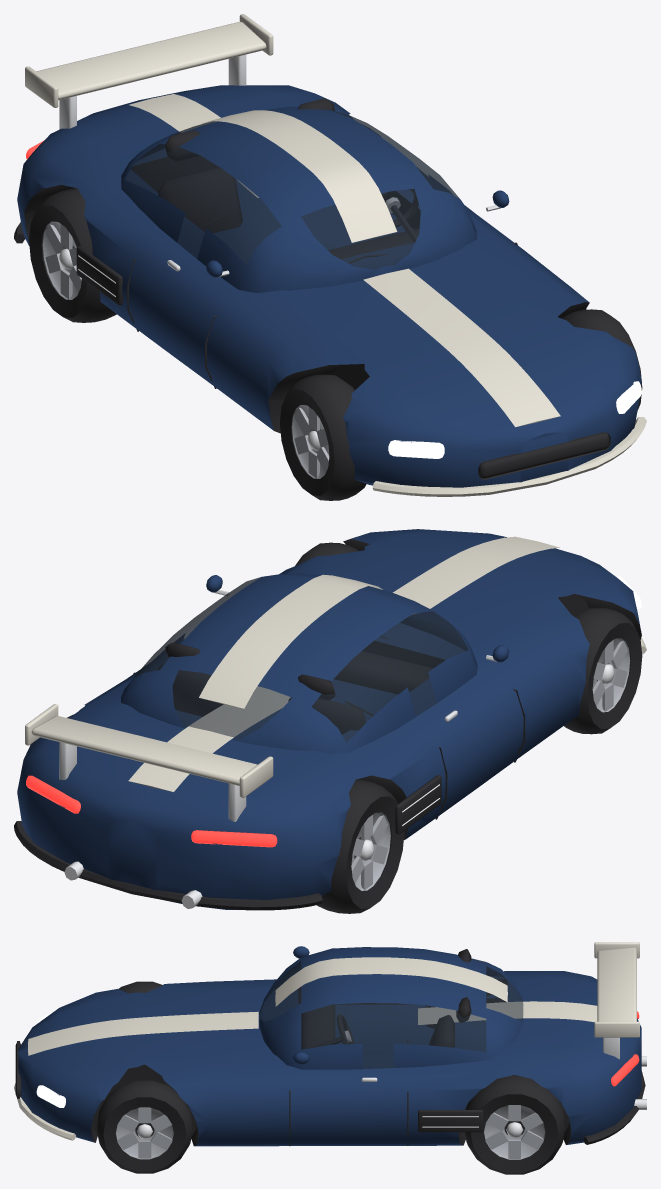
The model's file is esportivo.glb.
The picture shows the model from 3 angles, top to bottom: view 1: azimuth 30°, elevation 25°; view 2: azimuth 150°, elevation 25°; view 3: azimuth 270°, elevation 25°; orthographic projection. The views are drawn at different scales.
Parts seen in each view (by area): view 1: body, wheel_FR_mesh, wheel_RR_mesh, wheel_FL_mesh; view 2: body, wheel_RR_mesh, wheel_FR_mesh, wheel_FL_mesh; view 3: body, wheel_RL_mesh, wheel_FL_mesh, wheel_FR_mesh.
Boxes of the visible parts, x1=… form: body: x1=14, y1=14, x2=646, y2=496; wheel_FR_mesh: x1=280, y1=374, x2=366, y2=500; wheel_RR_mesh: x1=29, y1=188, x2=116, y2=322; wheel_FL_mesh: x1=562, y1=309, x2=642, y2=409; body: x1=14, y1=529, x2=646, y2=910; wheel_RR_mesh: x1=317, y1=779, x2=404, y2=913; wheel_FR_mesh: x1=564, y1=608, x2=642, y2=734; wheel_FL_mesh: x1=295, y1=542, x2=358, y2=565; body: x1=14, y1=942, x2=646, y2=1146; wheel_RL_mesh: x1=464, y1=1075, x2=565, y2=1174; wheel_FL_mesh: x1=96, y1=1080, x2=193, y2=1173; wheel_FR_mesh: x1=119, y1=981, x2=162, y2=993.
Bounding box in the file's own units: 2 × 1.21 × 4.45.
